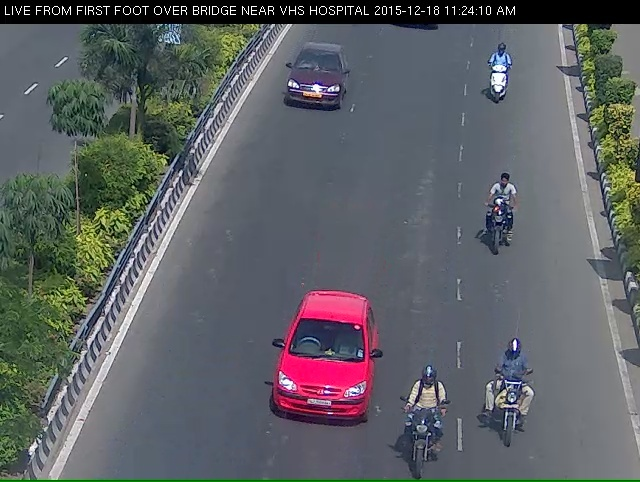Car: (261, 311, 377, 461), (273, 41, 349, 125)
Person: (487, 356, 538, 465), (386, 401, 438, 480), (476, 193, 519, 280), (477, 43, 520, 126)
